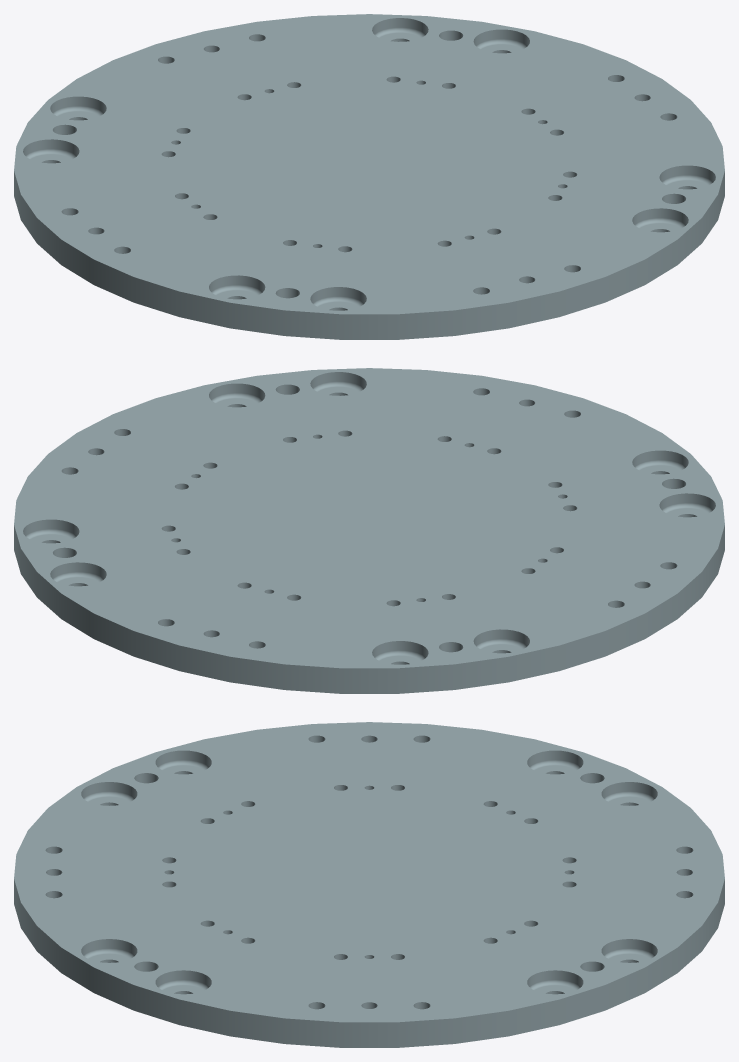
File: AdapterPlate_Iontec.dae
The picture shows the model from 3 angles, top to bottom: view 1: azimuth 30°, elevation 25°; view 2: azimuth 150°, elevation 25°; view 3: azimuth 270°, elevation 25°; orthographic projection.
Visible parts, largest first — view 1: 865.031-00.005.23-01umm000~00; view 2: 865.031-00.005.23-01umm000~00; view 3: 865.031-00.005.23-01umm000~00.
Boxes of the visible parts, x1,y1,x2,y2 form: 865.031-00.005.23-01umm000~00: (14, 14, 724, 339); 865.031-00.005.23-01umm000~00: (14, 368, 724, 693); 865.031-00.005.23-01umm000~00: (14, 722, 724, 1047).
Size of the model in its own units: 0.8786 by 0.8793 by 0.035.
